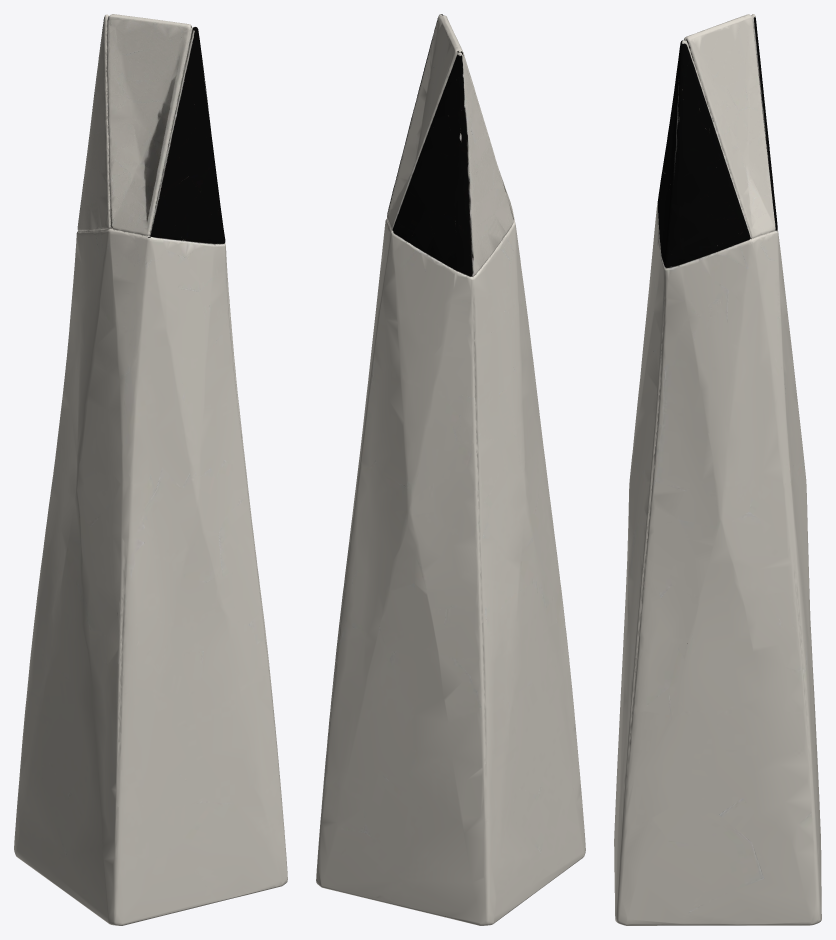
The model's file is bishop-white-hd.glb.
3 views of the same model, side by side, from view 1: azimuth 30°, elevation 25°; view 2: azimuth 150°, elevation 25°; view 3: azimuth 270°, elevation 25° (orthographic). The views are drawn at different scales.
Size of the model in its own units: 0.3291 by 1.5 by 0.3291.
Materials: 1 (1 with a texture image).
